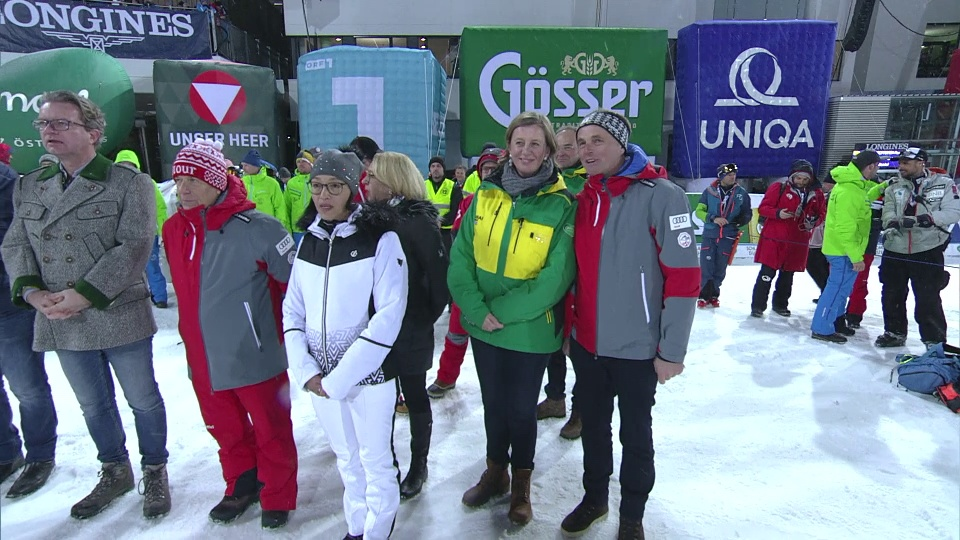goesser: (484, 34, 663, 125)
longines: (1, 1, 219, 54)
uniqa: (687, 39, 823, 171)
unserheer: (173, 56, 265, 165)
